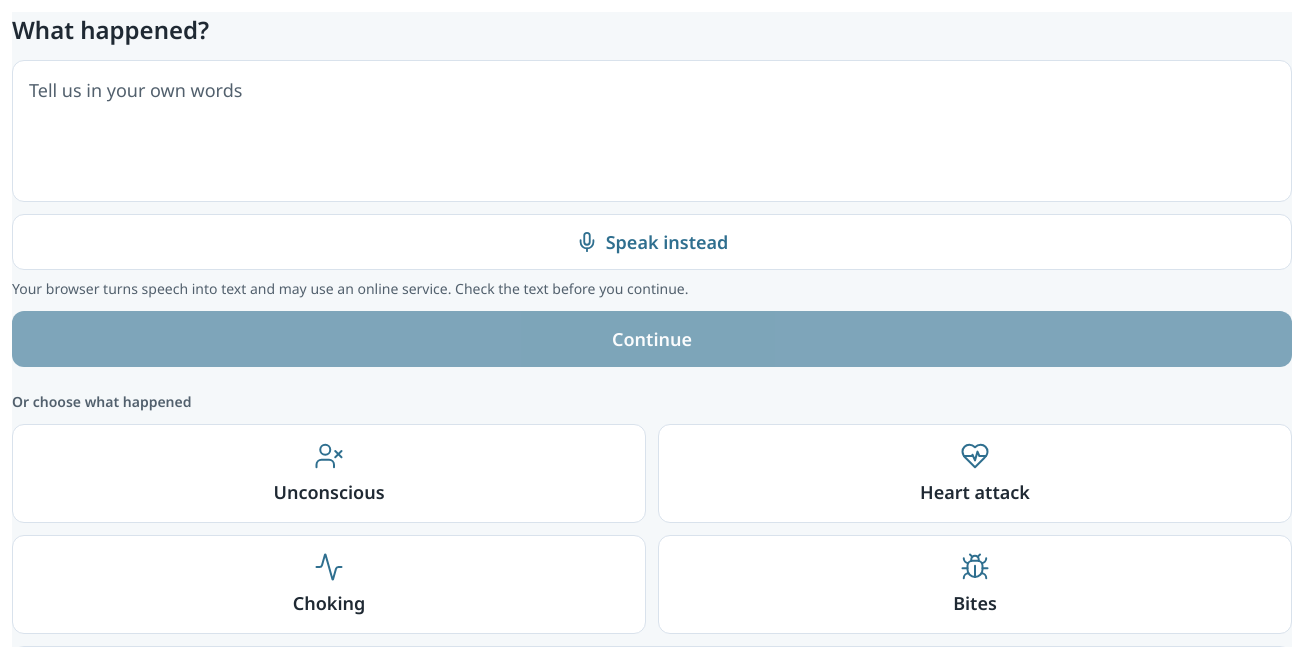
Test case: speech input › explains a blocked microphone
Click the button "Speak instead": (652, 242) [12,214,1292,270]
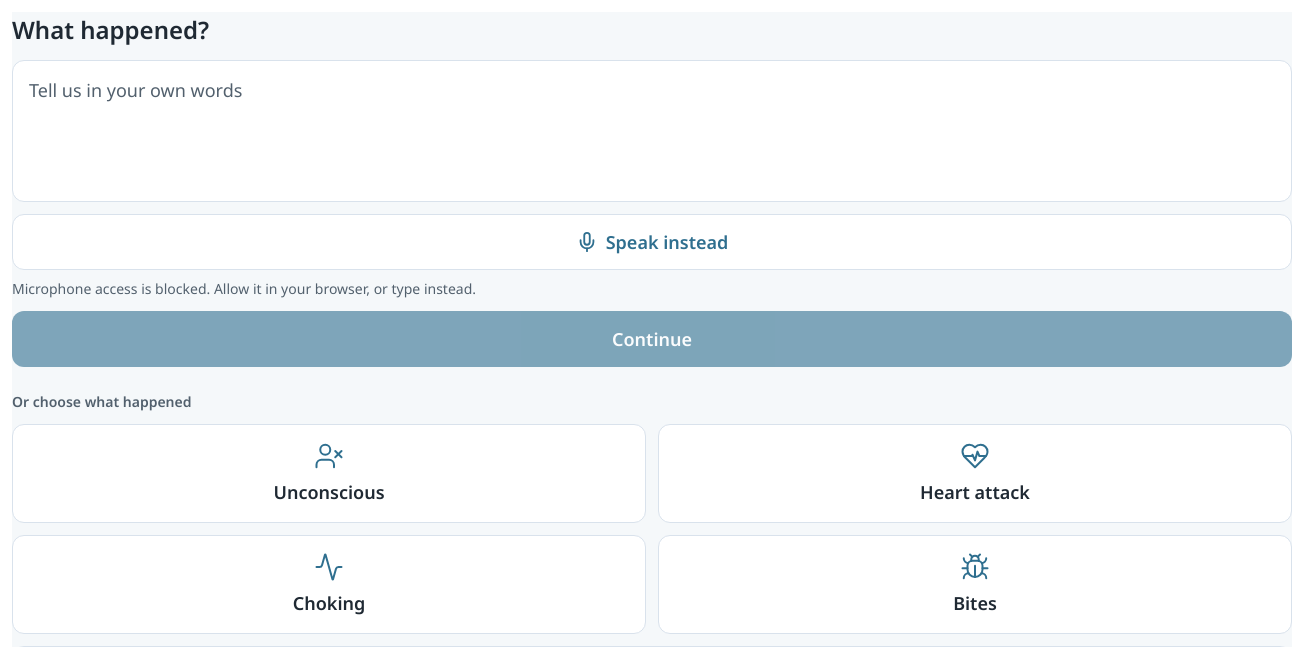
Now the message shows "Microphone access is blocked", box [12,279,476,298]
